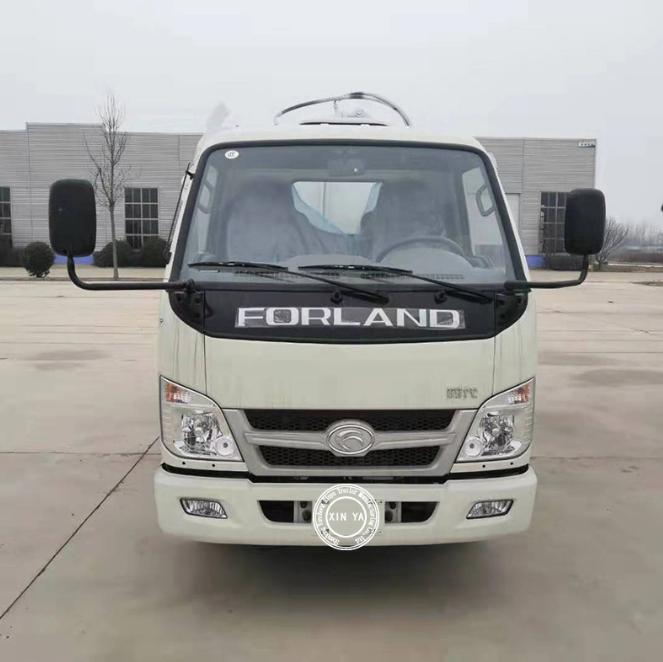vehicle: (49, 125, 604, 546)
